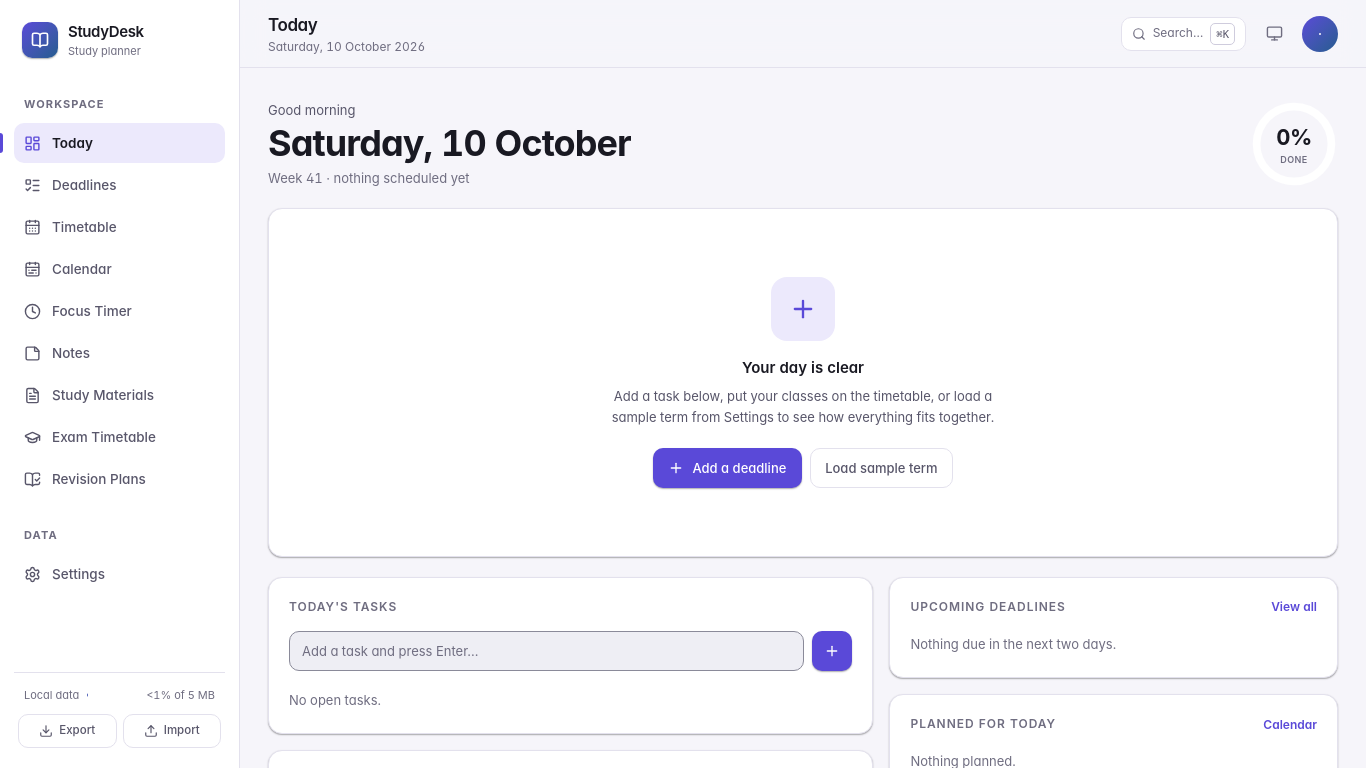
Test: App shell › shows completed tasks and lets the user reopen one
The image size is (1366, 768).
Type "Reopen me" into the field named "New task". click: (547, 651)
box: [289,631,804,671]
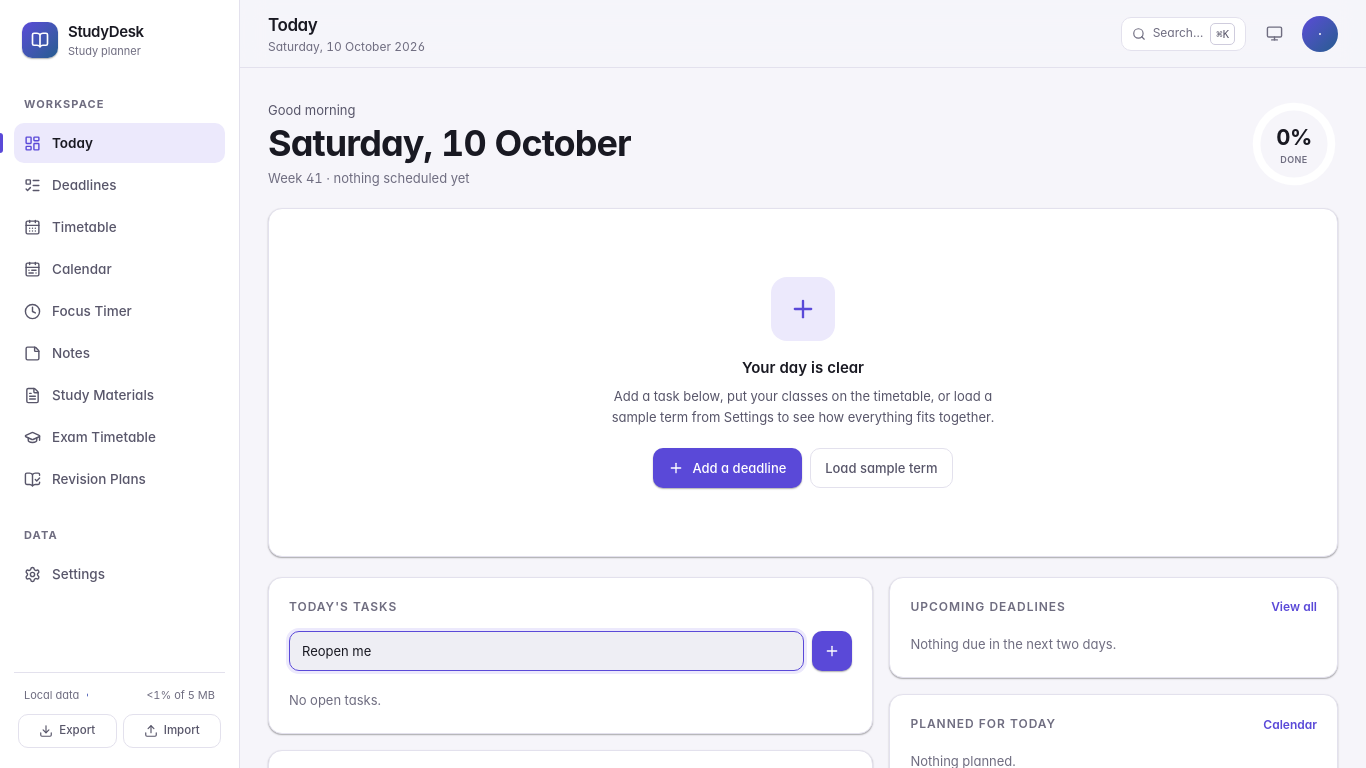
Click the button named "Add task". click: (832, 651)
box: [812,631,852,671]
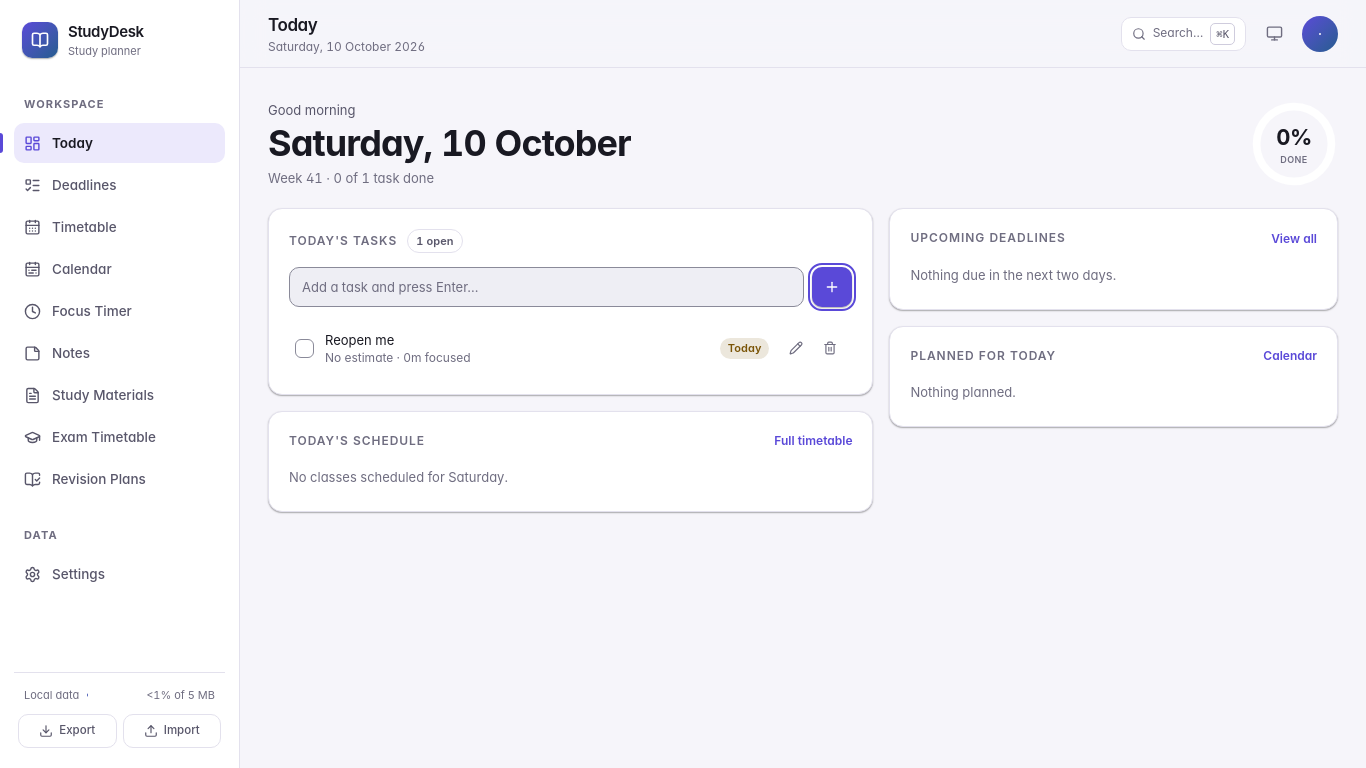
Click the checkbox named "Mark “Reopen me” as done". click: (304, 348)
box: [295,339,314,358]
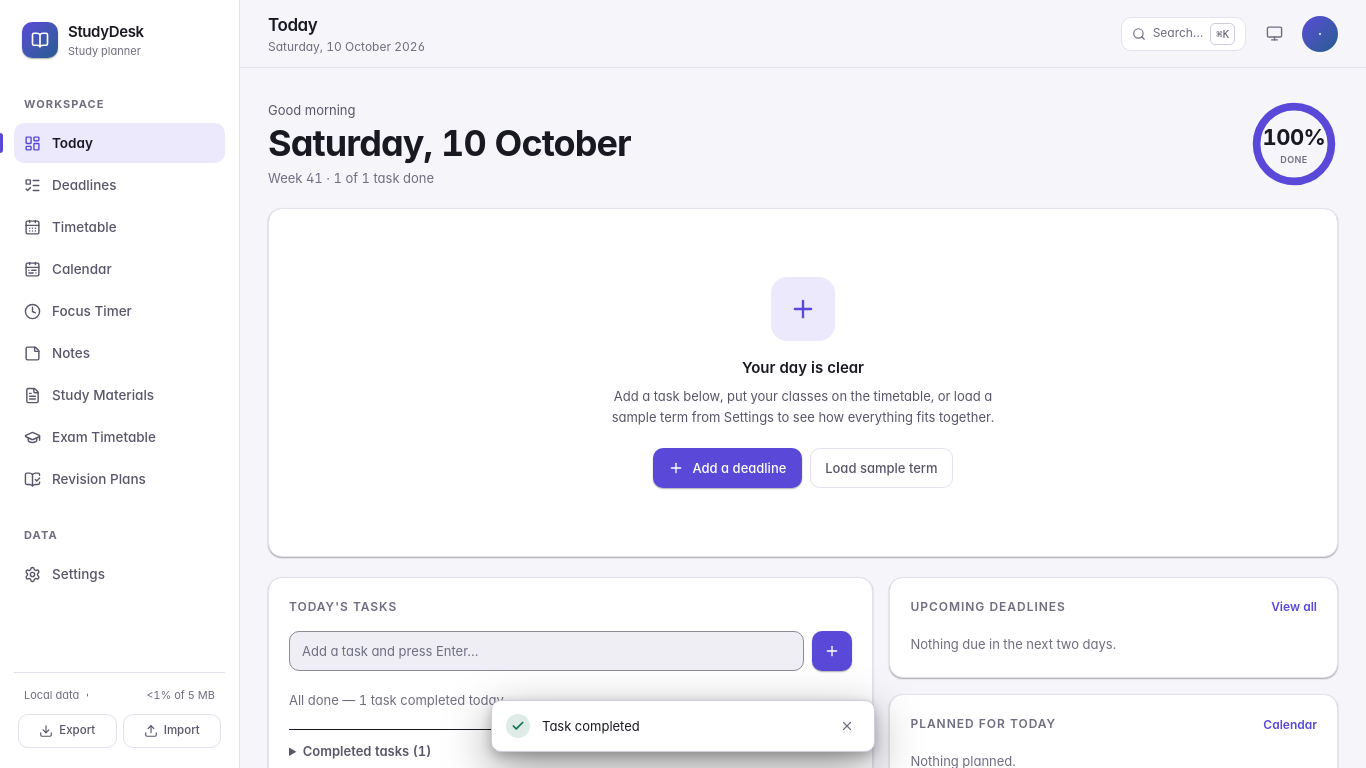
Click the heading "Completed tasks (1)". click: (367, 751)
box: [303,743,431,759]
(page scrolled)
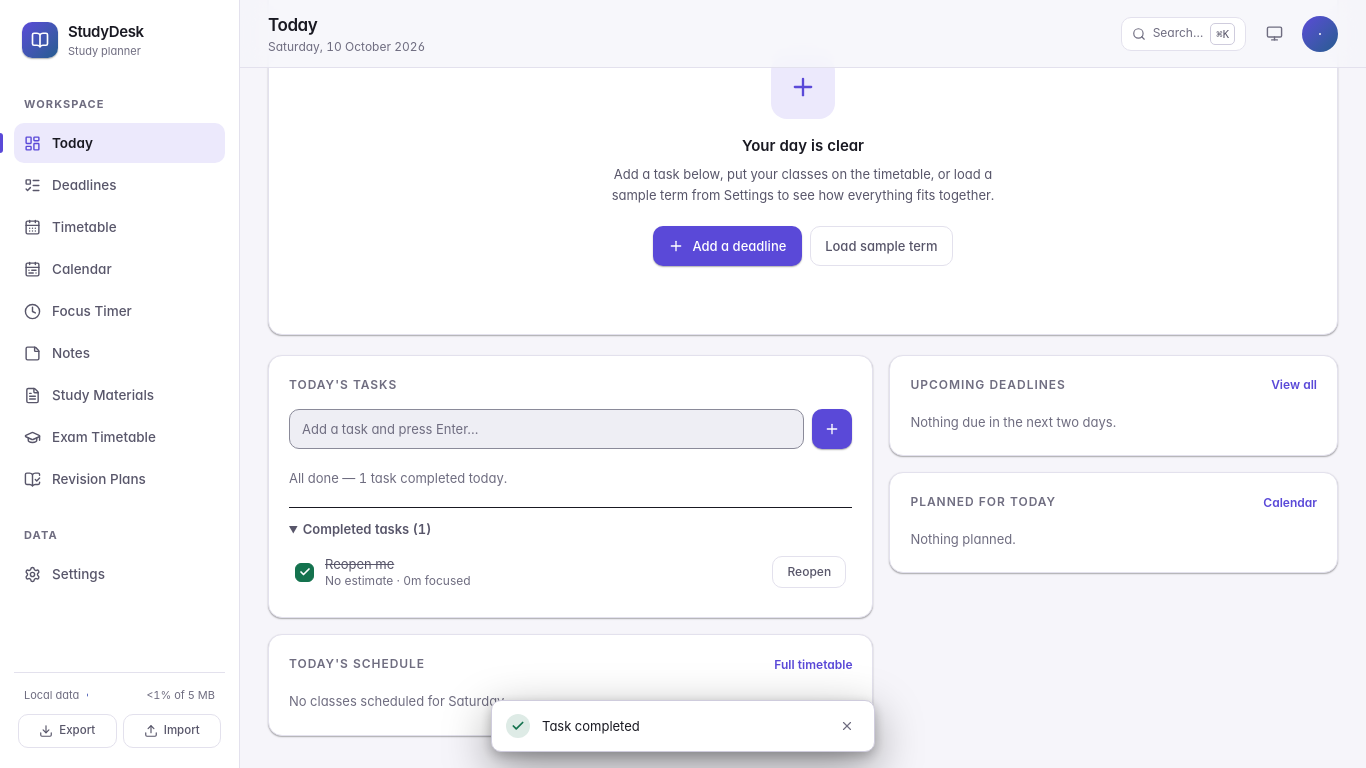
Check: the button "Reopen" is shown
Click the button "Reopen". click: (809, 572)
box: [772,556,846,588]
(page scrolled)
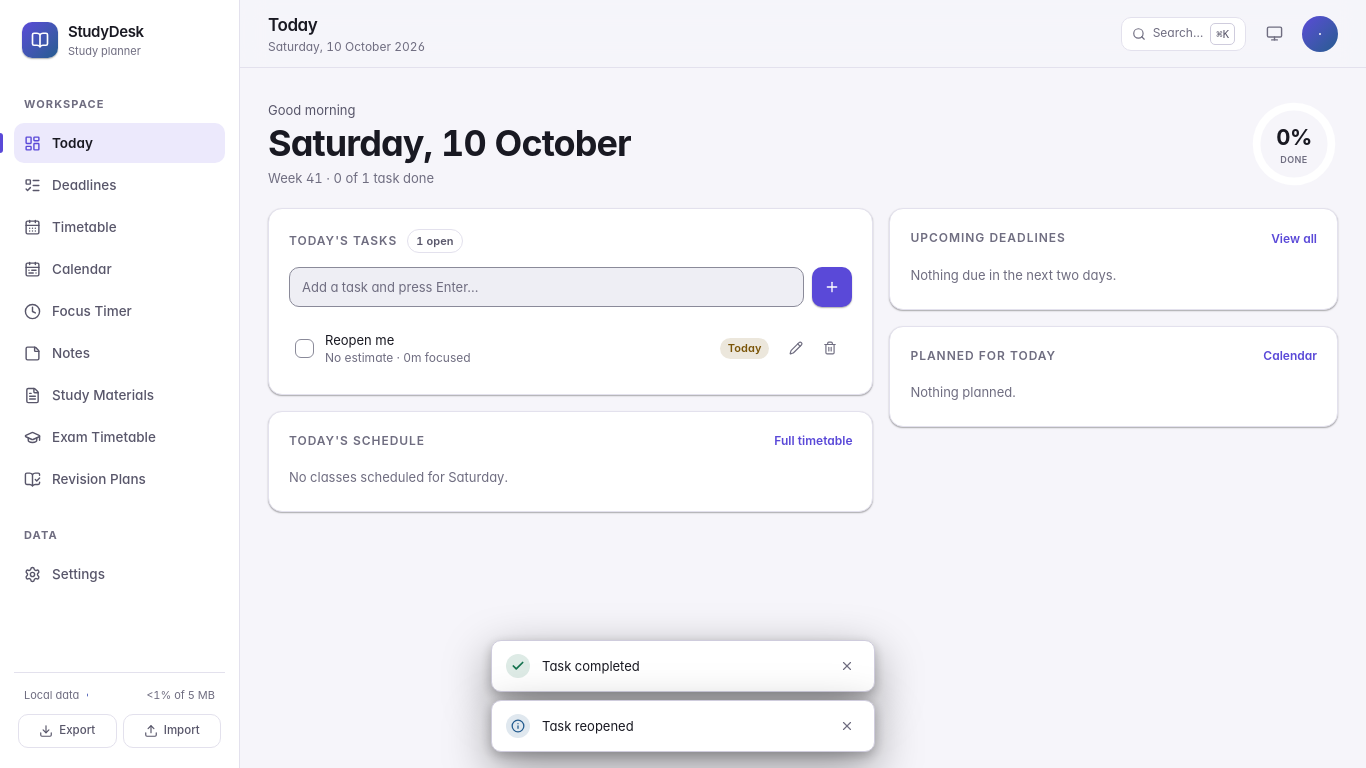
Check: the checkbox named "Mark “Reopen me” as done" is shown, box [295,339,314,358]
